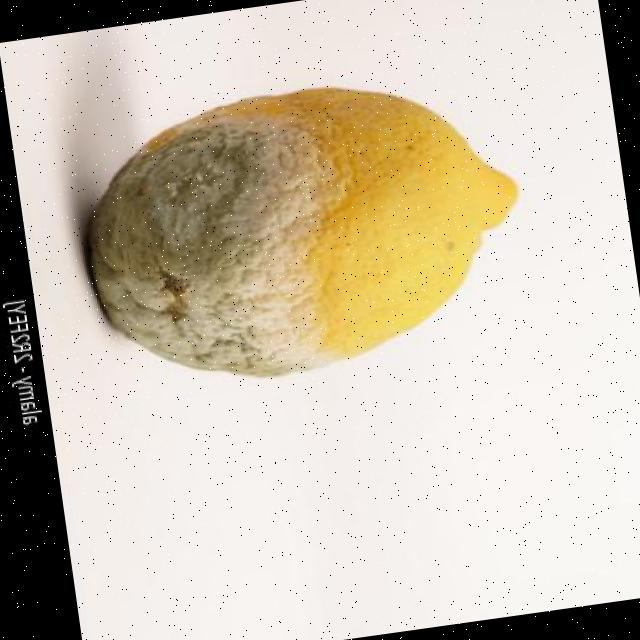Rotten: (71, 60, 538, 399)
